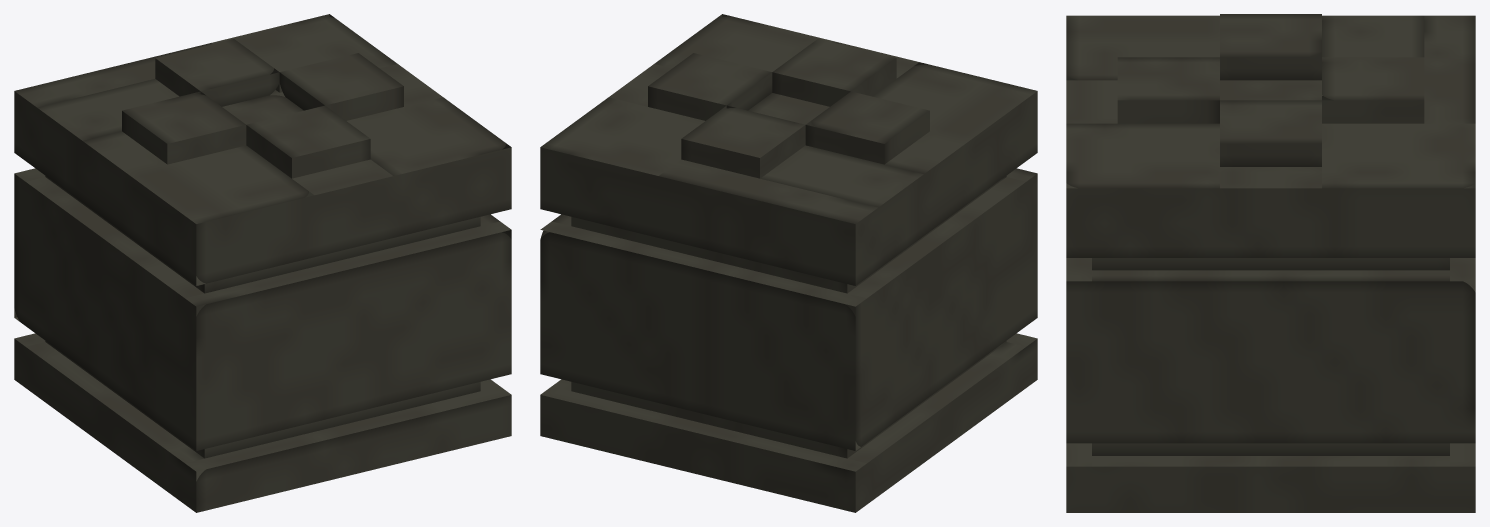
File: SlideBox.obj
3 views of the same model, side by side, from view 1: azimuth 30°, elevation 25°; view 2: azimuth 150°, elevation 25°; view 3: azimuth 270°, elevation 25° (orthographic). The views are drawn at different scales.
Visible parts, largest first — view 1: Model; view 2: Model; view 3: Model.
Boxes of the visible parts, x1=… form: Model: x1=14, y1=14, x2=511, y2=512; Model: x1=540, y1=14, x2=1037, y2=512; Model: x1=1066, y1=14, x2=1475, y2=512.
Bounding box in the file's own units: 16 × 15 × 16.
1 material, 1 textured.
